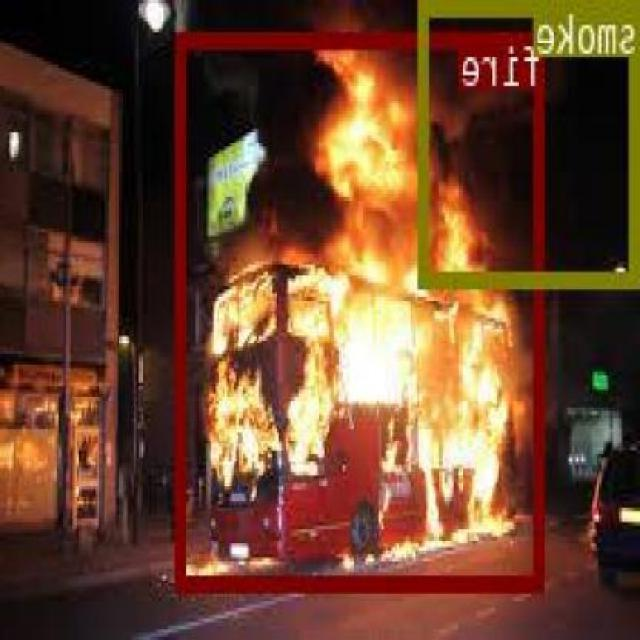Fire: (180, 30, 546, 590)
Smoke: (422, 0, 640, 286)
